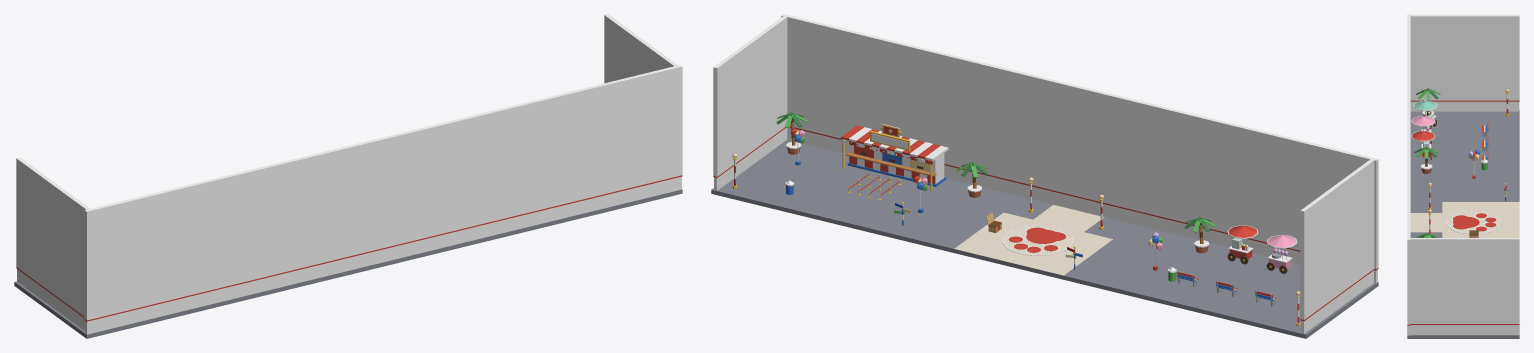
Rendered from CatCafe_Camp_WaterPark.glb.
3 renders of one model, left to right at view 1: azimuth 30°, elevation 25°; view 2: azimuth 150°, elevation 25°; view 3: azimuth 270°, elevation 25°, orthographic. The views are drawn at different scales.
Visible parts, largest first — view 1: CatCafe_Camp_WaterPark_Barrier, CatCafe_Camp_WaterPark; view 2: CatCafe_Camp_WaterPark_Barrier, CatCafe_Camp_WaterPark, CatCafe_Camp_WaterPark_001_TicketFront, CatCafe_Camp_WaterPark_004_FoodCart, CatCafe_Camp_WaterPark_003_FoodCart, CatCafe_Camp_WaterPark_020_PlanterPalm; view 3: CatCafe_Camp_WaterPark_Barrier, CatCafe_Camp_WaterPark, CatCafe_Camp_WaterPark_003_FoodCart, CatCafe_Camp_WaterPark_005_FoodCart, CatCafe_Camp_WaterPark_020_PlanterPalm, CatCafe_Camp_WaterPark_004_FoodCart, CatCafe_Camp_WaterPark_013_PlanterPalm, CatCafe_Camp_WaterPark_014_BalloonBunch_Swing.
Boxes of the visible parts, left/top/right/bottom form: CatCafe_Camp_WaterPark_Barrier: left=16, top=14, right=682, bottom=320; CatCafe_Camp_WaterPark: left=14, top=175, right=682, bottom=338; CatCafe_Camp_WaterPark_Barrier: left=713, top=14, right=1378, bottom=319; CatCafe_Camp_WaterPark: left=711, top=126, right=1378, bottom=338; CatCafe_Camp_WaterPark_001_TicketFront: left=841, top=124, right=948, bottom=190; CatCafe_Camp_WaterPark_004_FoodCart: left=1266, top=235, right=1297, bottom=273; CatCafe_Camp_WaterPark_003_FoodCart: left=1227, top=225, right=1258, bottom=264; CatCafe_Camp_WaterPark_020_PlanterPalm: left=1184, top=217, right=1215, bottom=253; CatCafe_Camp_WaterPark_Barrier: left=1407, top=14, right=1519, bottom=324; CatCafe_Camp_WaterPark: left=1407, top=100, right=1519, bottom=338; CatCafe_Camp_WaterPark_003_FoodCart: left=1411, top=131, right=1435, bottom=159; CatCafe_Camp_WaterPark_005_FoodCart: left=1413, top=100, right=1437, bottom=129; CatCafe_Camp_WaterPark_020_PlanterPalm: left=1414, top=146, right=1438, bottom=173; CatCafe_Camp_WaterPark_004_FoodCart: left=1411, top=116, right=1435, bottom=144; CatCafe_Camp_WaterPark_013_PlanterPalm: left=1416, top=88, right=1440, bottom=116; CatCafe_Camp_WaterPark_014_BalloonBunch_Swing: left=1468, top=150, right=1479, bottom=175.
Size of the model in its own units: 152 by 31 by 32.
Materials: 1 (1 with a texture image).
